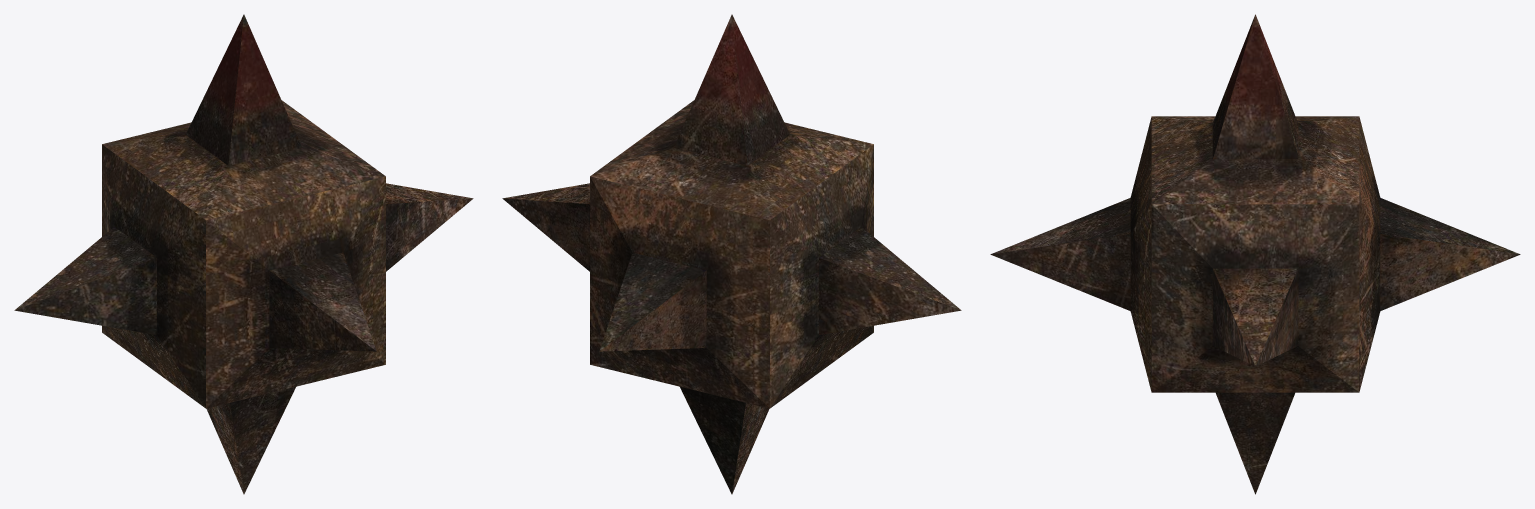
File: Pinche oxidado.fbx
The picture shows the model from 3 angles, left to right: view 1: azimuth 30°, elevation 25°; view 2: azimuth 150°, elevation 25°; view 3: azimuth 270°, elevation 25°; orthographic projection.
Visible parts, largest first — view 1: Cube; view 2: Cube; view 3: Cube.
Boxes of the visible parts, <box> form: Cube: <box>14,14,473,494</box>; Cube: <box>502,14,961,494</box>; Cube: <box>990,14,1520,494</box>.
Size of the model in its own units: 705 by 705 by 705.
